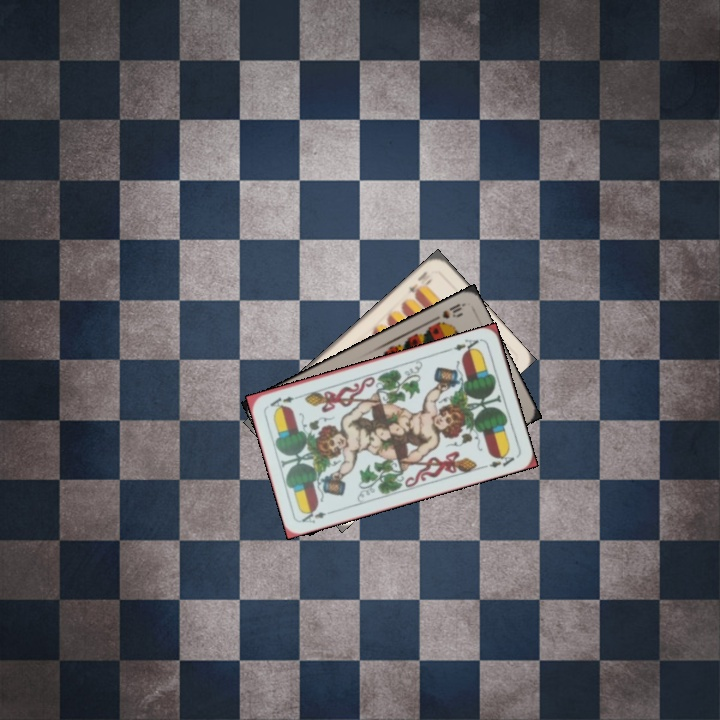E10: (402, 267, 430, 300)
EA: (444, 335, 484, 357), (298, 505, 337, 526)
S10: (428, 299, 466, 324)
